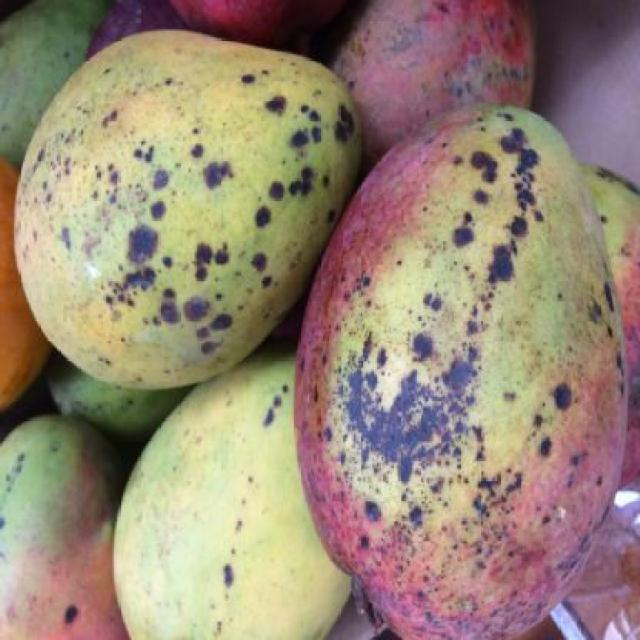Mango: (0, 1, 640, 640), (292, 110, 623, 639)
